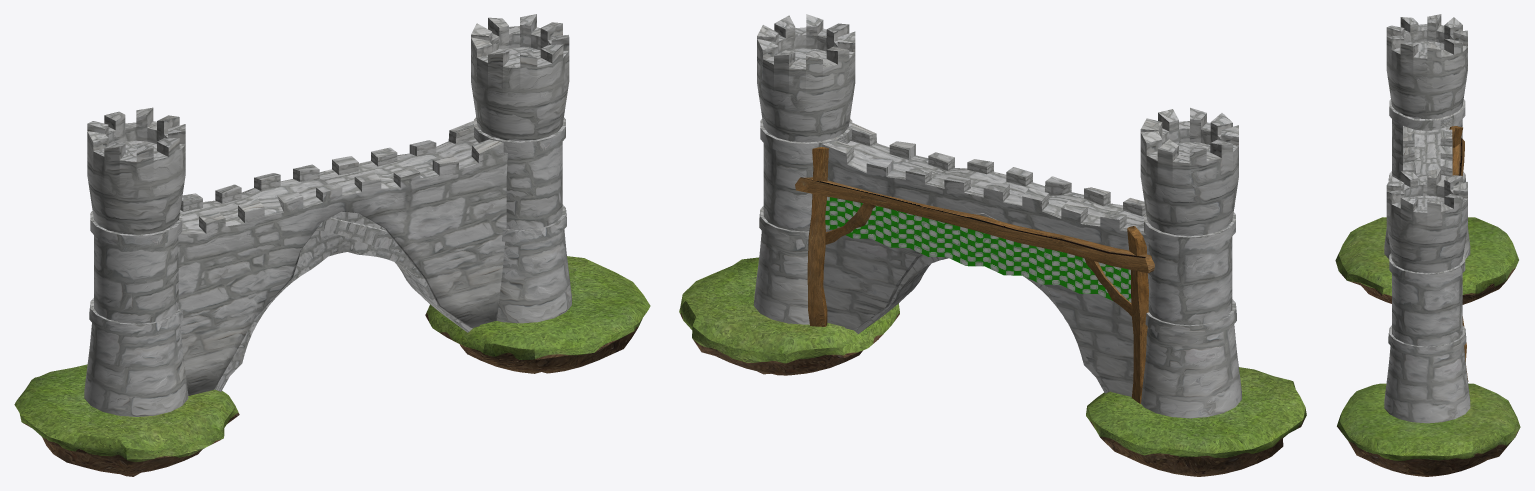
The model's file is Finish1.FBX.
3 renders of one model, left to right at view 1: azimuth 30°, elevation 25°; view 2: azimuth 150°, elevation 25°; view 3: azimuth 270°, elevation 25°, orthographic. The views are drawn at different scales.
Visible parts, largest first — view 1: Cylinder015; view 2: Cylinder015; view 3: Cylinder015.
Part boxes in pixels (x1,y1,x2,y2): Cylinder015: (14, 14, 650, 476); Cylinder015: (679, 14, 1306, 476); Cylinder015: (1335, 14, 1520, 476).
Bounding box in the file's own units: 1231 × 668 × 401.
